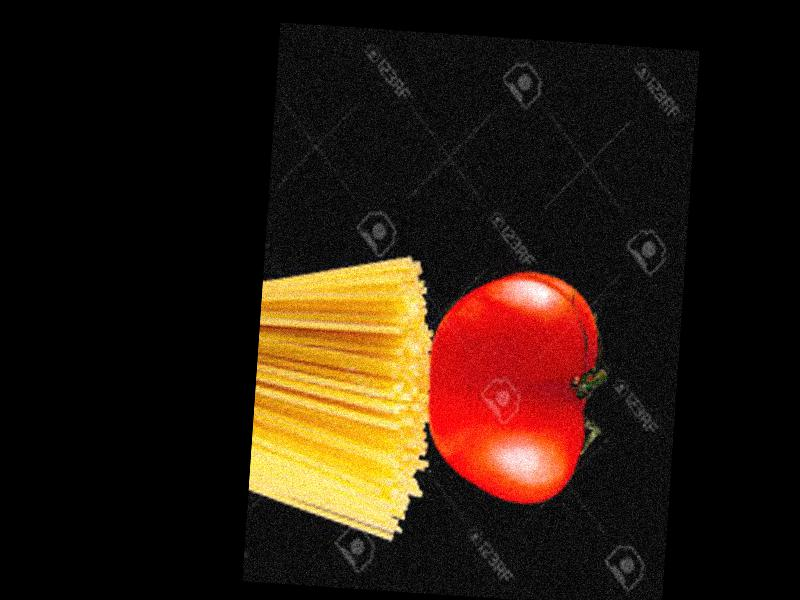Tomato: (420, 269, 603, 506)
